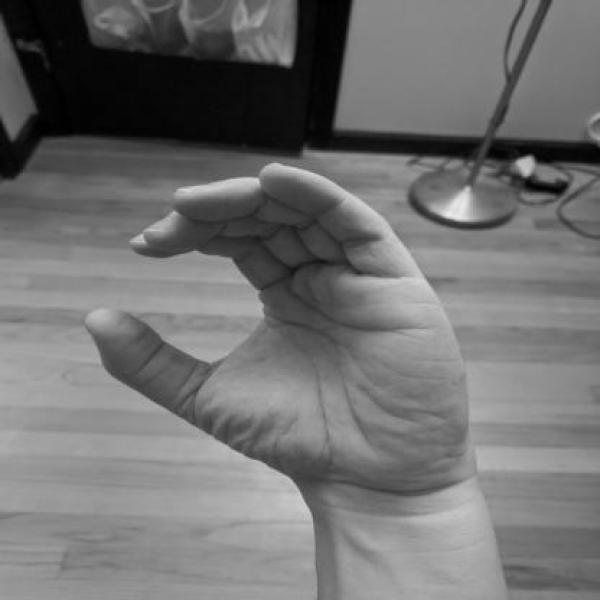C: (79, 157, 488, 493)
